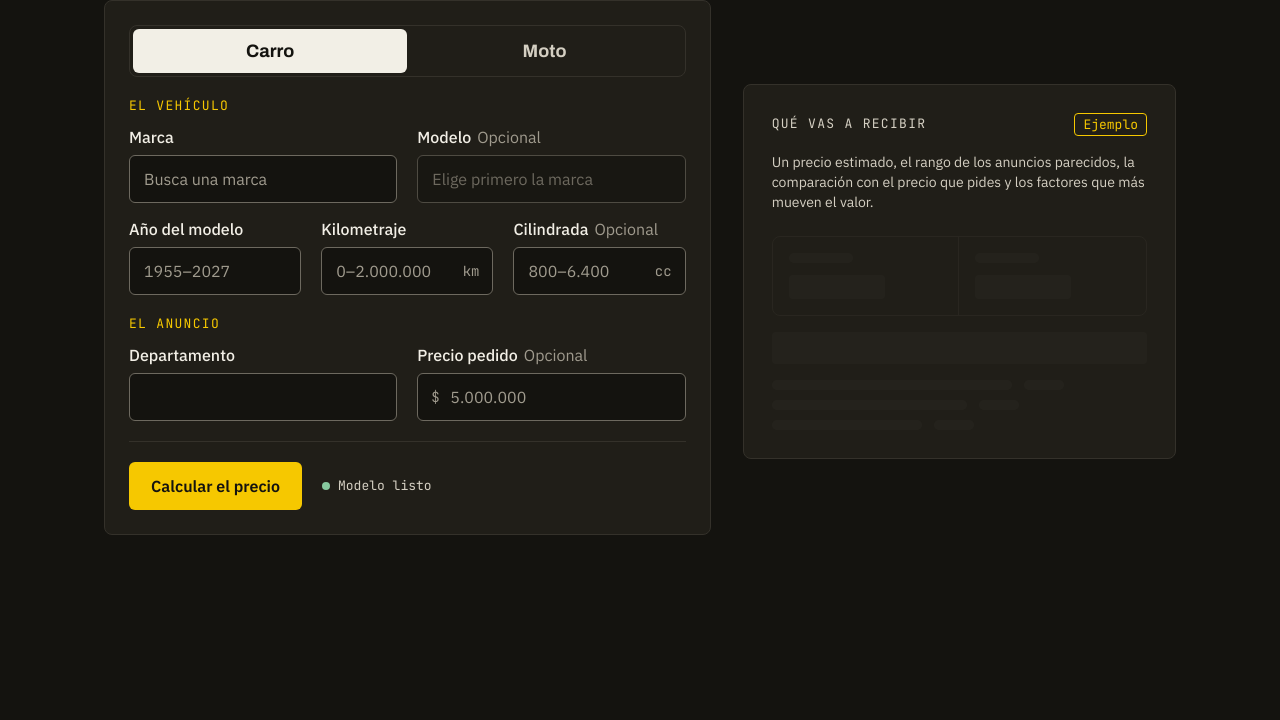
Scenario: a department the capture has not reached › says what it will do once that is chosen
Expected: the text "Modelo listo" is shown, x1=322 y1=477 x2=432 y2=496
In the dropdown labelled "Departamento": (263, 397) x1=129 y1=373 x2=397 y2=421, type "nari"
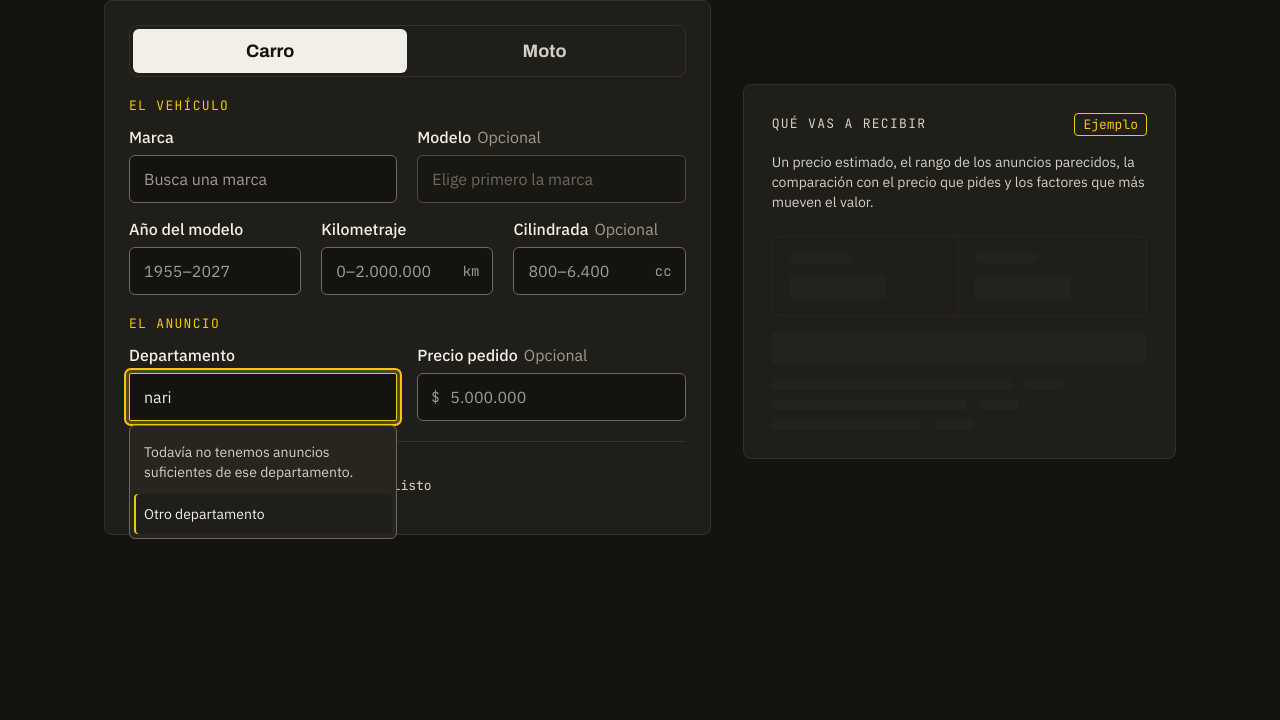
Press the mouse on the option "Otro departamento": (263, 514) x1=134 y1=494 x2=392 y2=534
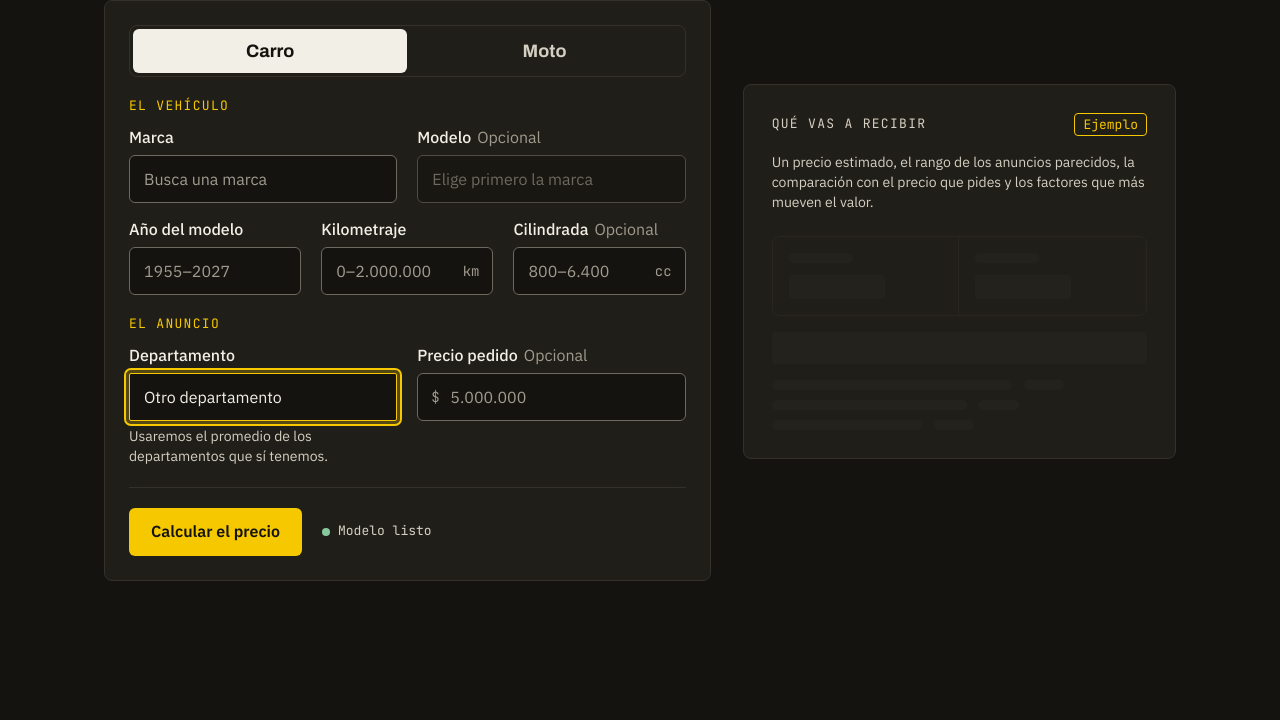
Expected: the text "Usaremos el promedio de los departamentos que sí tenemos." is shown, x1=129 y1=427 x2=328 y2=465
